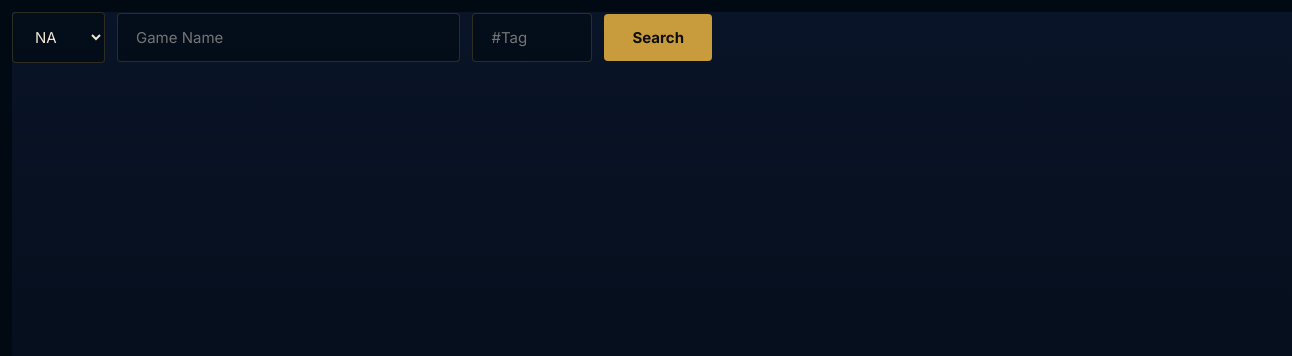
Test case: SearchBar › doesn't cover the hint with the history dropdown
Click the button "Search" at (658, 38), box [604,14,712,61]
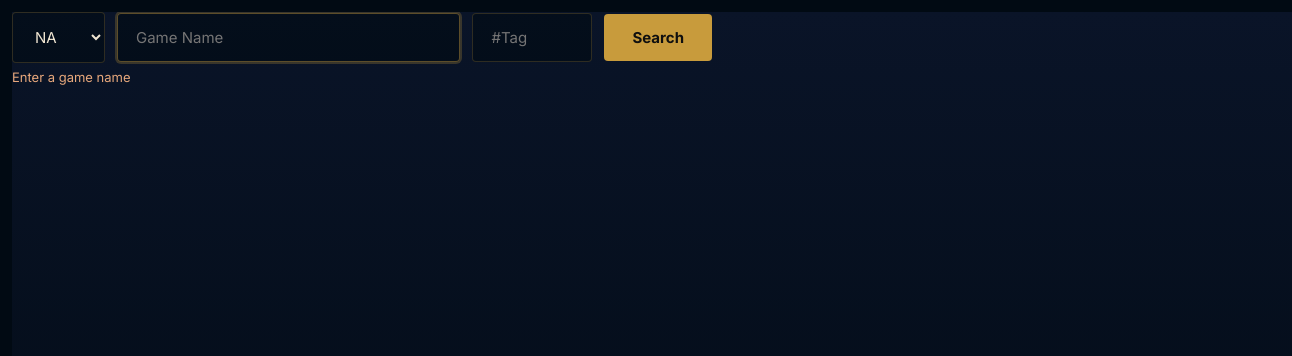
Result: the message reads "Enter a game name" at [12,69,131,85]
